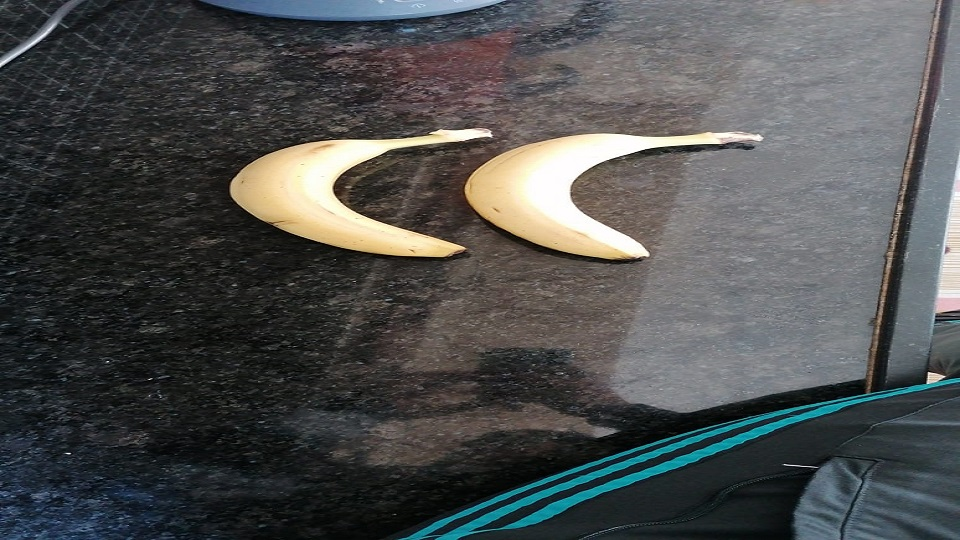muz: (465, 131, 759, 265), (227, 126, 482, 260)
